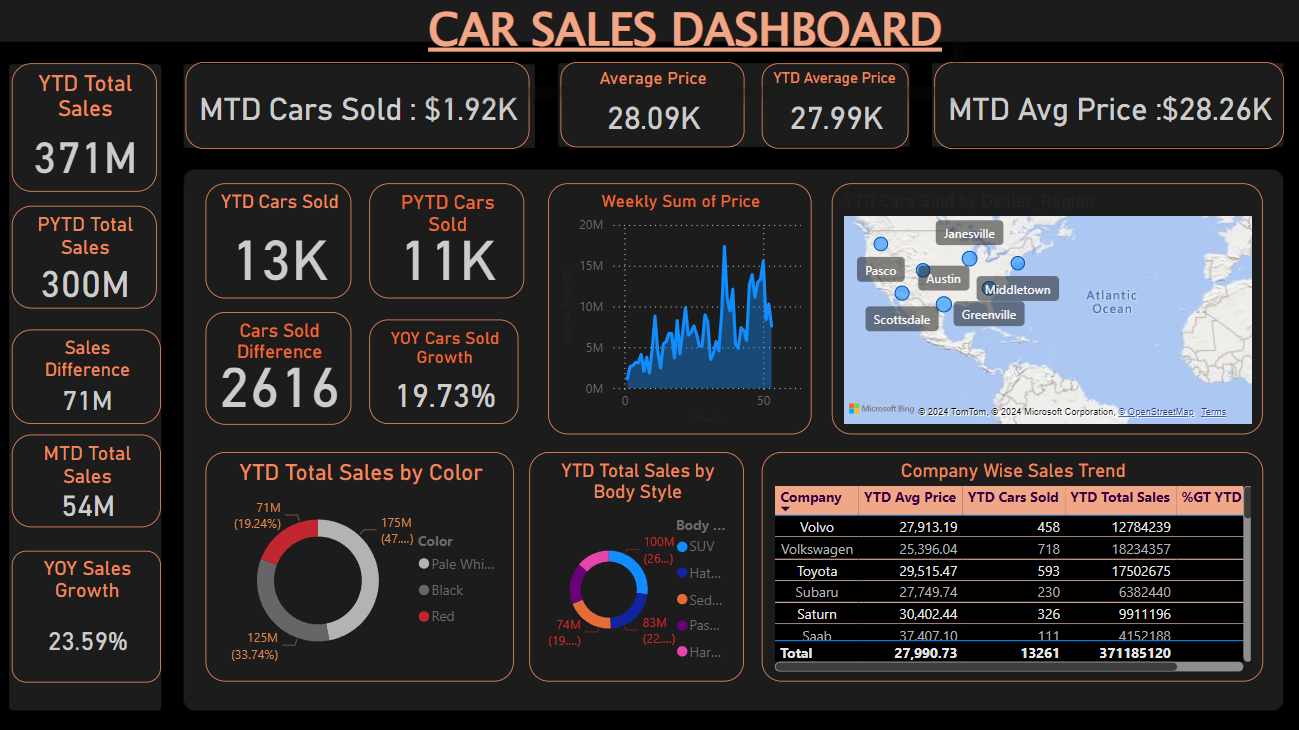

Layout of this report page (visuals, bound fields, positions):
{"tool":"powerbi","page":{"name":"Page 1","canvas":[1280,720],"ordinal":0},"visuals":[{"type":"image","box":[0,0,1270.4,720.2],"z":0},{"type":"card","title":"YTD Total Sales","fields":{"Values":["Sheet1.YTD Total Sales"]},"box":[23.1,69.3,139.9,124.1],"z":1000},{"type":"card","title":"YOY Sales Growth","fields":{"Values":["Sheet1.YearOverYear sales growth"]},"box":[23.1,539.6,144.3,127],"z":2000},{"type":"card","title":"Sales Difference","fields":{"Values":["Sheet1.Sales Difference"]},"box":[23.1,326.1,144.3,90.9],"z":3000},{"type":"card","title":"PYTD Total Sales","fields":{"Values":["Sheet1.PYTD Total Sales"]},"box":[23.1,206.3,139.9,99.6],"z":4000},{"type":"card","title":"MTD Total Sales","fields":{"Values":["Sheet1.MTD Total Sales"]},"box":[23.1,427.1,144.3,89.5],"z":5000},{"type":"card","title":"Average Price","fields":{"Values":["Sheet1.Average Price"]},"box":[552.6,67.8,177.5,82.2],"z":6000},{"type":"card","title":"YTD Average Price","fields":{"Values":["Sheet1.YTD Avg Price"]},"box":[747.4,69.3,141.4,82.2],"z":7000},{"type":"card","fields":{"Values":["Sheet1.MTD Avg Price KPI"]},"box":[913.3,67.8,337.6,83.7],"z":8000},{"type":"card","title":"YTD Cars Sold","fields":{"Values":["Sheet1.YTD Cars Sold"]},"box":[209.9,184.6,141.2,111],"z":9000},{"type":"card","title":"PYTD Cars Sold","fields":{"Values":["Sheet1.PYTD Cars Sold"]},"box":[368,184.6,149.6,111],"z":10000},{"type":"card","title":"Cars Sold Difference","fields":{"Values":["Sheet1.Cars Sold Difference"]},"box":[209.9,308.8,141.2,108.6],"z":11000},{"type":"card","title":"YOY Cars Sold Growth","fields":{"Values":["Sheet1.YOY Car Sold Growth"]},"box":[367.9,316,144.3,101],"z":12000},{"type":"card","fields":{"Values":["Sheet1.MTD CARSOLD KPI"]},"box":[190.4,67.8,331.8,83.7],"z":13000},{"type":"donutChart","fields":{"Y":["Sheet1.YTD Total Sales"],"Category":["Sheet1.Color"]},"box":[209.9,444,298,222],"z":14000},{"type":"tableEx","title":"Company Wise Sales Trend","fields":{"Values":["Sheet1.Company","Sheet1.YTD Avg Price","Sheet1.YTD Cars Sold","Sheet1.YTD Total Sales","Divide(Sheet1.YTD Total Sales, ScopedEval(Sheet1.YTD Total Sales, []))"]},"box":[746.8,444,483.8,222],"z":15000},{"type":"areaChart","title":"Weekly Sum of Price","fields":{"Category":["Sheet2.Week"],"Y":["Sum(Sheet1.Price ($))"]},"box":[540.5,184.6,254.6,242.5],"z":16000},{"type":"donutChart","fields":{"Y":["Sheet1.YTD Total Sales"],"Category":["Sheet1.Body Style"]},"box":[522.4,444,207.5,222],"z":17000},{"type":"map","fields":{"Size":["Sheet1.YTD Cars Sold"],"Category":["Sheet1.Dealer_Region"]},"box":[814.3,184.6,416.2,242.5],"z":18000},{"type":"textbox","box":[414.1,0,518,92.3],"z":19000}]}

Visuals, with their boxes in screenshot pixels (x1, y1, x2, y2), scaled from the page's 1280x720 canvas onto the 1299x730 screenshot:
image: {"left": 0, "top": 0, "right": 1289, "bottom": 729}
"YTD Total Sales" card: {"left": 23, "top": 70, "right": 165, "bottom": 196}
"YOY Sales Growth" card: {"left": 23, "top": 547, "right": 170, "bottom": 676}
"Sales Difference" card: {"left": 23, "top": 331, "right": 170, "bottom": 423}
"PYTD Total Sales" card: {"left": 23, "top": 209, "right": 165, "bottom": 310}
"MTD Total Sales" card: {"left": 23, "top": 433, "right": 170, "bottom": 524}
"Average Price" card: {"left": 561, "top": 69, "right": 741, "bottom": 152}
"YTD Average Price" card: {"left": 758, "top": 70, "right": 902, "bottom": 154}
card - Sheet1.MTD Avg Price KPI: {"left": 927, "top": 69, "right": 1269, "bottom": 154}
"YTD Cars Sold" card: {"left": 213, "top": 187, "right": 356, "bottom": 300}
"PYTD Cars Sold" card: {"left": 373, "top": 187, "right": 525, "bottom": 300}
"Cars Sold Difference" card: {"left": 213, "top": 313, "right": 356, "bottom": 423}
"YOY Cars Sold Growth" card: {"left": 373, "top": 320, "right": 520, "bottom": 423}
card - Sheet1.MTD CARSOLD KPI: {"left": 193, "top": 69, "right": 530, "bottom": 154}
donutChart - Sheet1.YTD Total Sales x Sheet1.Color: {"left": 213, "top": 450, "right": 515, "bottom": 675}
"Company Wise Sales Trend" tableEx: {"left": 758, "top": 450, "right": 1249, "bottom": 675}
"Weekly Sum of Price" areaChart: {"left": 549, "top": 187, "right": 807, "bottom": 433}
donutChart - Sheet1.YTD Total Sales x Sheet1.Body Style: {"left": 530, "top": 450, "right": 741, "bottom": 675}
map - Sheet1.YTD Cars Sold x Sheet1.Dealer_Region: {"left": 826, "top": 187, "right": 1249, "bottom": 433}
textbox: {"left": 420, "top": 0, "right": 946, "bottom": 94}
